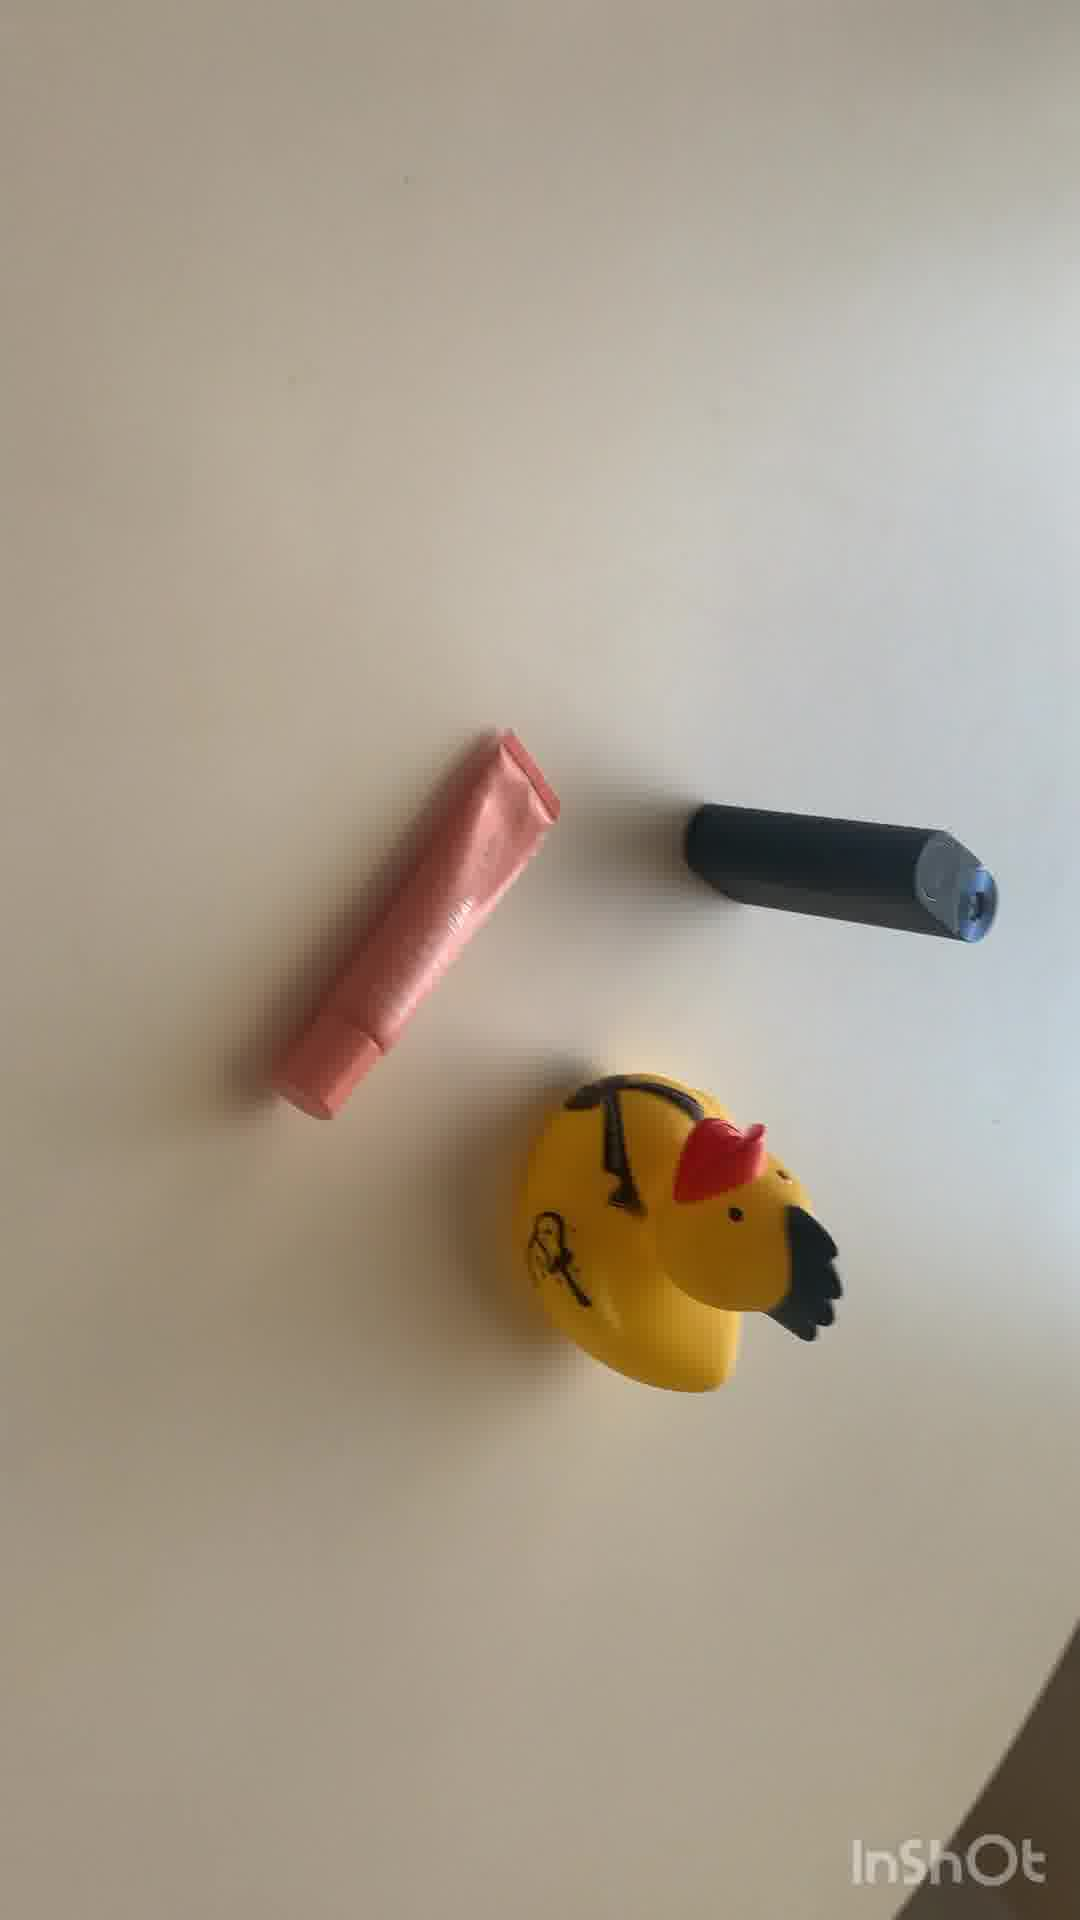duck: (508, 1069, 841, 1398)
glo: (682, 795, 1005, 952)
lip balm: (269, 728, 567, 1126)
